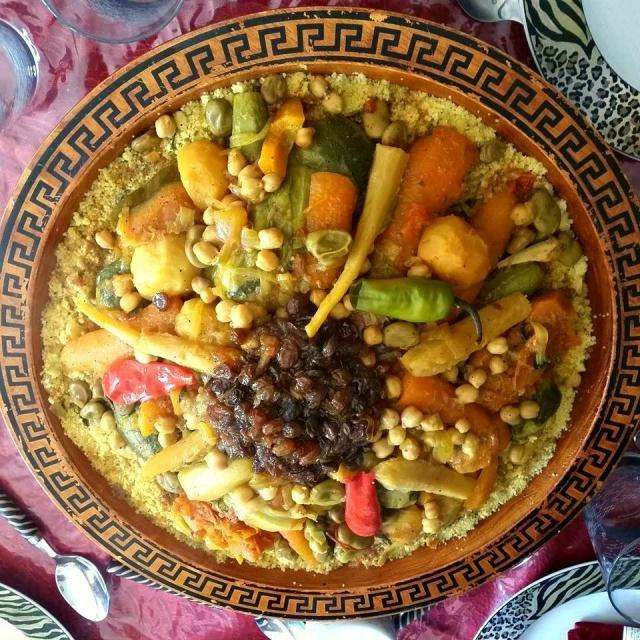Couscous: (46, 75, 592, 575)
